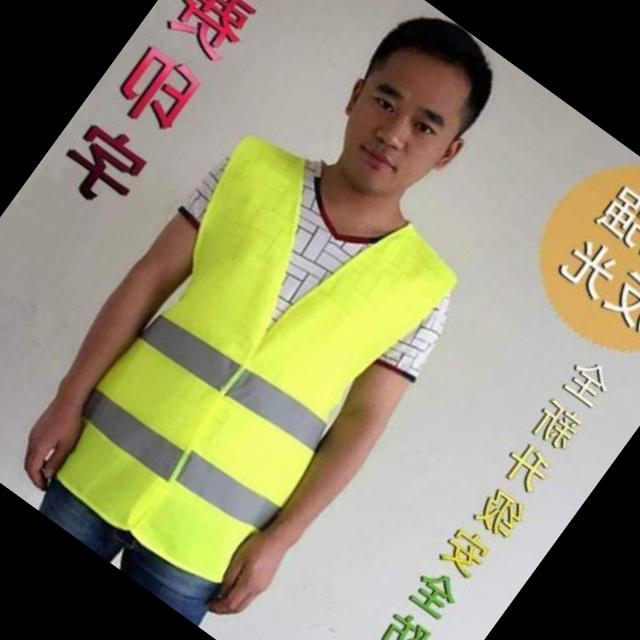safety_vest: (13, 119, 473, 613)
vehicle: (0, 0, 611, 640)
